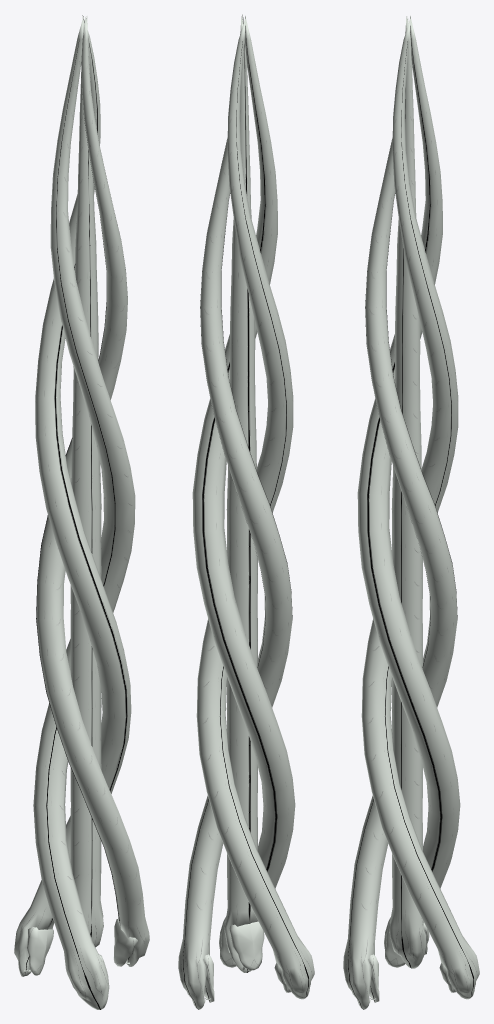
The model's file is anko_hook.fbx.
The picture shows the model from 3 angles, left to right: view 1: azimuth 30°, elevation 25°; view 2: azimuth 210°, elevation 25°; view 3: azimuth 330°, elevation 25°; orthographic projection.
Parts seen in each view (by area): view 1: sej01t0 body, sej00t0 body; view 2: sej01t0 body, sej00t0 body; view 3: sej01t0 body, sej00t0 body.
Boxes of the visible parts, x1=… form: sej01t0 body: x1=14, y1=15, x2=149, y2=1009; sej00t0 body: x1=70, y1=17, x2=103, y2=947; sej01t0 body: x1=178, y1=15, x2=314, y2=1009; sej00t0 body: x1=224, y1=14, x2=264, y2=972; sej01t0 body: x1=343, y1=15, x2=479, y2=1009; sej00t0 body: x1=389, y1=16, x2=429, y2=968.
Size of the model in its own units: 25.97 by 220 by 27.95.
